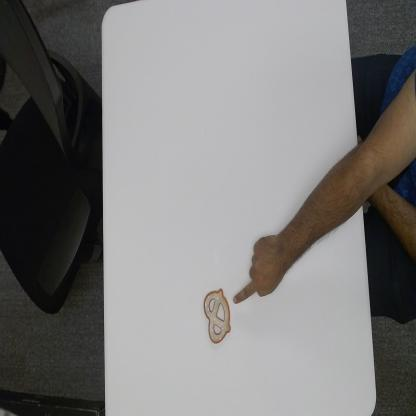Arm: (285, 142, 361, 272)
Hand: (234, 230, 285, 307)
Pretzel: (204, 283, 233, 347)
